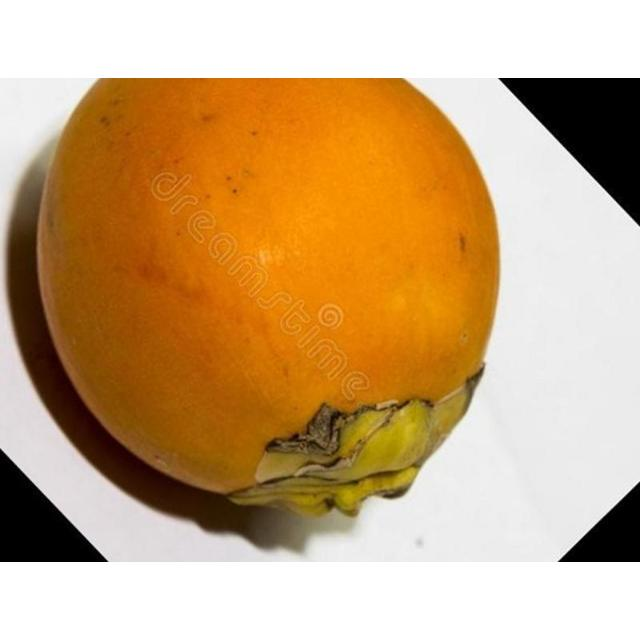good: (31, 78, 502, 522)
